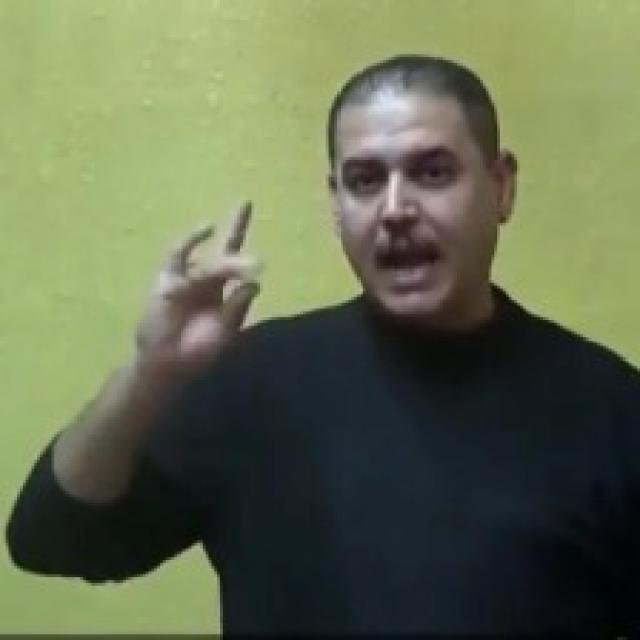Dog: (130, 194, 270, 377)
